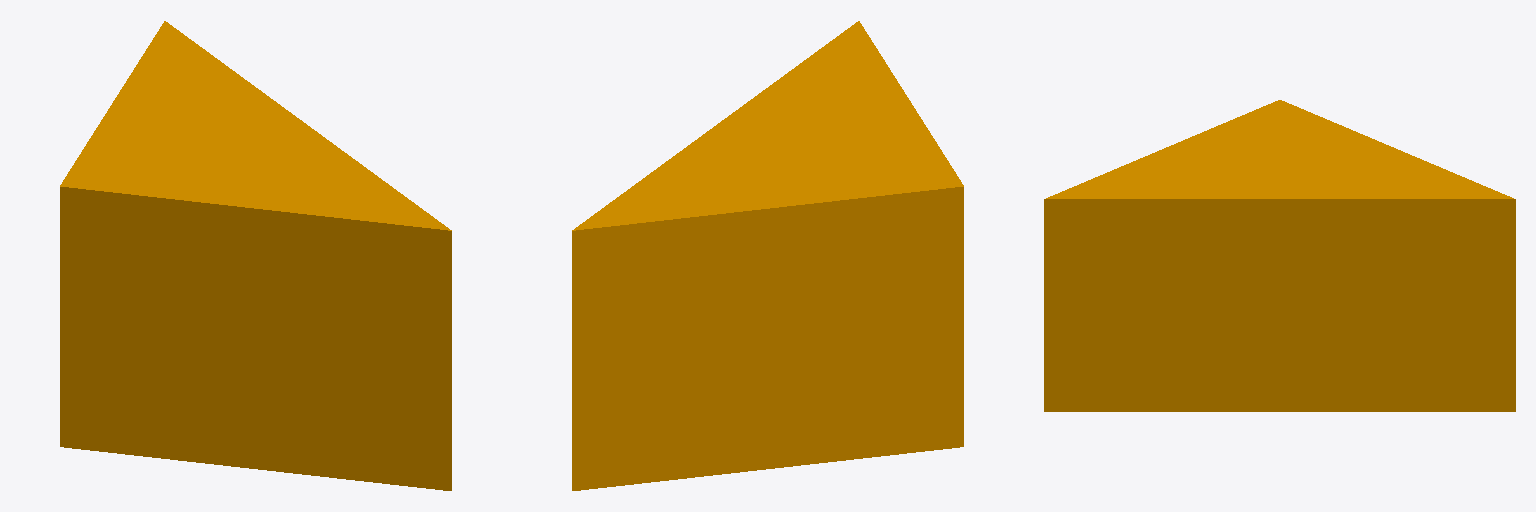
URDF robot description (triangle.urdf):
<?xml version="1.0" encoding="utf-8"?>
<robot name="triangle.urdf">
  <link name="baseLink">
    <contact>
      <lateral_friction value="0.5"/>
      <rolling_friction value="0.001"/>
      <spinning_friction value="0.001"/>
    </contact>
    <inertial>
      <origin rpy="0 0 0" xyz="0 0 0"/>
       <mass value="0.07"/>
       <inertia ixx="1" ixy="0" ixz="0" iyy="1" iyz="0" izz="1"/>
    </inertial>
    <visual>
      <origin rpy="0 0 0" xyz="0 0 0"/>
      <geometry>
         <mesh filename="triangle.obj"/>
      </geometry>
    </visual>
    <collision>
      <origin rpy="0 0 0" xyz="0 0 0"/>
      <geometry>
	 	    <mesh filename="triangle.obj"/>
      </geometry>
    </collision>
  </link>
</robot>

--- Facts derived from the render (not from the file) ---
Views: 3 orthographic renders of the robot side by side, from view 1: azimuth 30°, elevation 25°; view 2: azimuth 150°, elevation 25°; view 3: azimuth 270°, elevation 25°.
Model triangle.urdf with 1 links and 0 joints (none), rooted at baseLink, posed all joints at 0.
Links seen in each view (by area): view 1: baseLink; view 2: baseLink; view 3: baseLink.
Boxes of the visible links, bbox=[...] form: baseLink: bbox=[60, 21, 451, 490]; baseLink: bbox=[572, 21, 963, 490]; baseLink: bbox=[1044, 100, 1515, 411].
Bounding box of the posed robot: 0.045 × 0.09 × 0.045 m (x, y, z).
Meshes: 1 distinct files referenced, 1 mesh visuals loaded (1 OBJ).